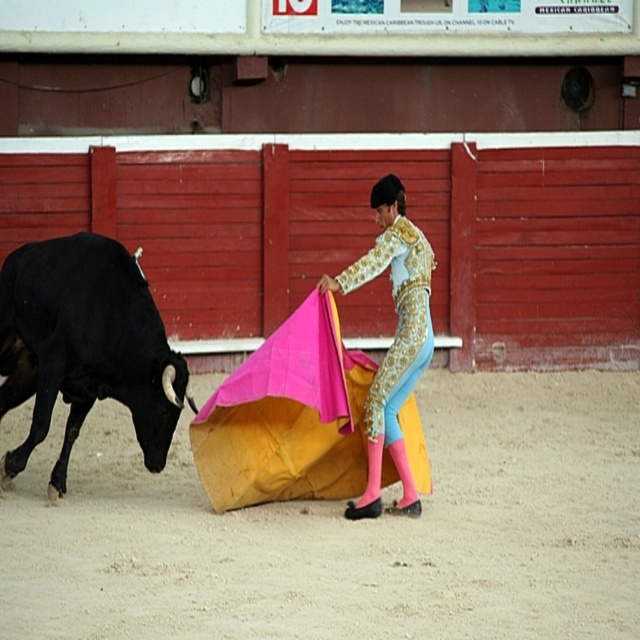Bull: (0, 231, 198, 501)
